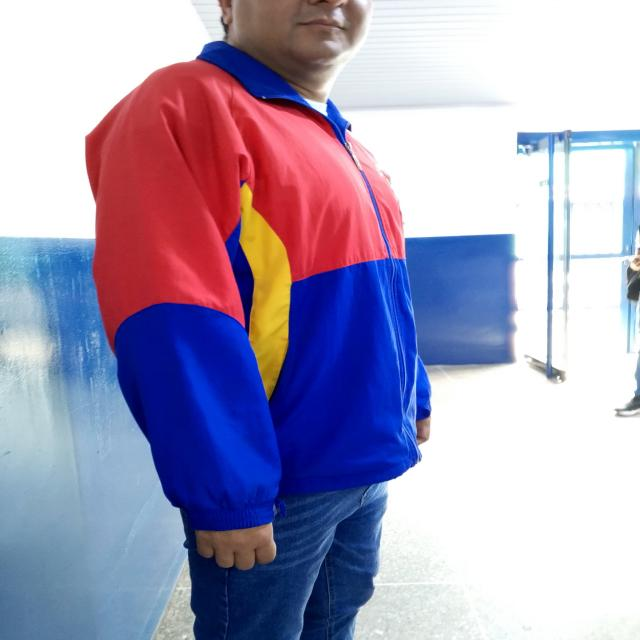chaqueta_unefa: (84, 41, 432, 532)
